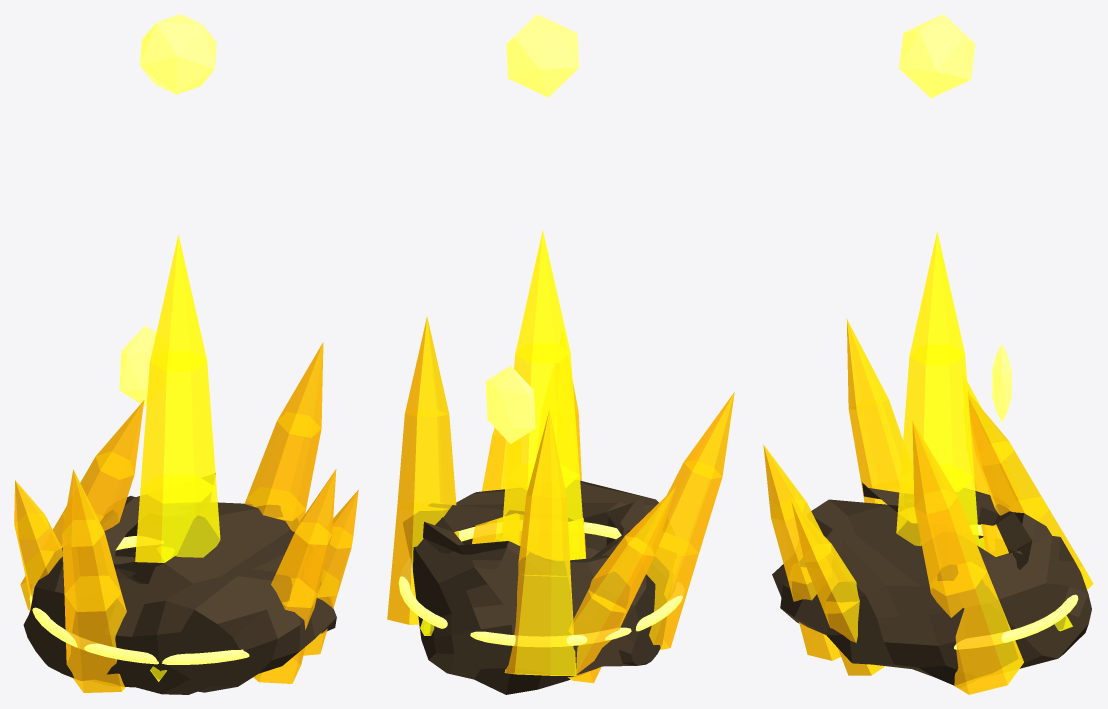
Rendered from gold.glb.
The picture shows the model from 3 angles, left to right: view 1: azimuth 30°, elevation 25°; view 2: azimuth 150°, elevation 25°; view 3: azimuth 270°, elevation 25°; orthographic projection. The views are drawn at different scales.
Visible parts, largest first — view 1: RockBase, GoldTower, GoldSpire_1, GoldSpire_0, GoldSpire_2, GoldSun, GoldSpire_3, GoldSpire_5, GlowHalo, GoldSpire_4, GlowCore; view 2: RockBase, GoldTower, GoldSpire_3, GoldSpire_0, GoldSpire_1, GoldSpire_5, GoldSun, GlowHalo, GlowCore, GoldSpire_4; view 3: RockBase, GoldTower, GoldSpire_0, GoldSpire_1, GoldSpire_3, GoldSpire_4, GoldSpire_2, GoldSun, GlowHalo, GlowCore, GoldSpire_5.
Part boxes in pixels (<box>): RockBase: <box>23,473,336,694</box>; GoldTower: <box>135,234,220,562</box>; GoldSpire_1: <box>62,469,126,692</box>; GoldSpire_0: <box>244,342,323,531</box>; GoldSpire_2: <box>253,469,336,683</box>; GoldSun: <box>140,14,216,94</box>; GoldSpire_3: <box>20,400,144,610</box>; GoldSpire_5: <box>14,480,62,597</box>; GlowHalo: <box>29,536,249,664</box>; GoldSpire_4: <box>303,490,358,655</box>; GlowCore: <box>119,325,156,406</box>; RockBase: <box>403,480,668,694</box>; GoldTower: <box>501,230,585,560</box>; GoldSpire_3: <box>504,410,576,675</box>; GoldSpire_0: <box>387,316,459,624</box>; GoldSpire_1: <box>646,392,734,649</box>; GoldSpire_5: <box>567,487,675,683</box>; GoldSun: <box>506,14,579,97</box>; GlowHalo: <box>398,522,684,646</box>; GlowCore: <box>485,365,535,444</box>; GoldSpire_4: <box>472,428,508,543</box>; RockBase: <box>772,482,1091,685</box>; GoldTower: <box>896,232,979,546</box>; GoldSpire_0: <box>912,421,1023,694</box>; GoldSpire_1: <box>846,319,902,504</box>; GoldSpire_3: <box>968,393,1093,589</box>; GoldSpire_4: <box>791,501,884,675</box>; GoldSpire_2: <box>763,444,840,660</box>; GoldSun: <box>899,14,975,98</box>; GlowHalo: <box>954,524,1078,649</box>; GlowCore: <box>992,344,1011,421</box>; GoldSpire_5: <box>967,382,1008,556</box>.
Bounding box in the file's own units: 1.32 × 2.78 × 1.33.
